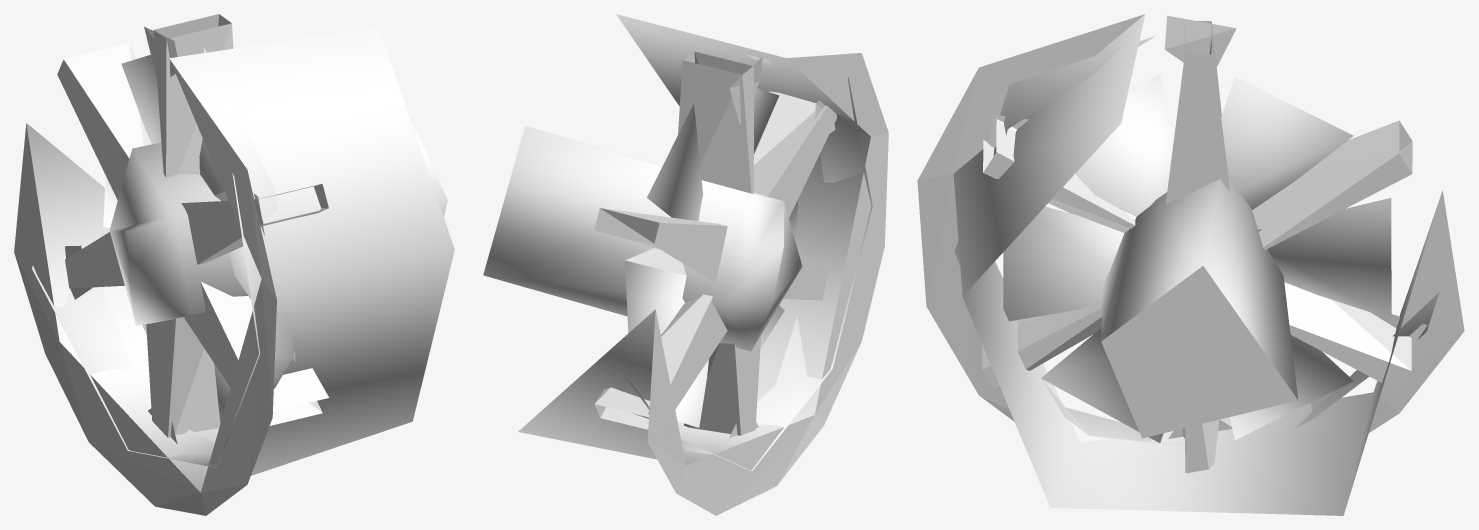
The picture shows the model from 3 angles, left to right: view 1: azimuth 30°, elevation 25°; view 2: azimuth 150°, elevation 25°; view 3: azimuth 270°, elevation 25°; orthographic projection. The views are drawn at different scales.
Size of the model in its own units: 0.4147 by 0.6637 by 0.6833.
Materials: 1 (1 with a texture image).
